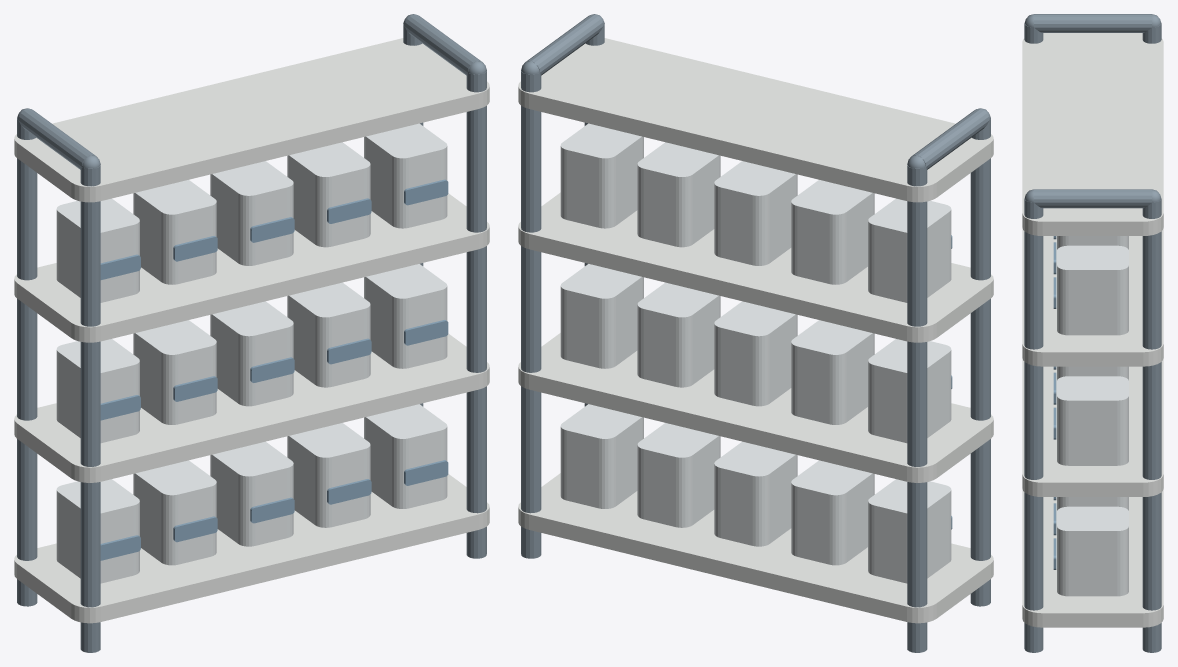
Rendered from hospital_supply_shelf.glb.
3 views of the same model, side by side, from view 1: azimuth 30°, elevation 25°; view 2: azimuth 150°, elevation 25°; view 3: azimuth 270°, elevation 25° (orthographic). The views are drawn at different scales.
Visible parts, largest first — view 1: decor_d8dcd8_matte, decor_d4dfe3_matte, decor_455665_metal, decor_476a8a_matte; view 2: decor_d4dfe3_matte, decor_d8dcd8_matte, decor_455665_metal; view 3: decor_d8dcd8_matte, decor_d4dfe3_matte, decor_455665_metal, decor_476a8a_matte.
Boxes of the visible parts, left/top/right/bottom form: decor_d8dcd8_matte: left=14, top=38, right=489, bottom=623; decor_d4dfe3_matte: left=56, top=123, right=447, bottom=583; decor_455665_metal: left=17, top=14, right=486, bottom=652; decor_476a8a_matte: left=100, top=179, right=448, bottom=560; decor_d4dfe3_matte: left=560, top=123, right=951, bottom=583; decor_d8dcd8_matte: left=518, top=38, right=993, bottom=623; decor_455665_metal: left=521, top=14, right=990, bottom=652; decor_d8dcd8_matte: left=1022, top=33, right=1163, bottom=627; decor_d4dfe3_matte: left=1057, top=236, right=1128, bottom=596; decor_455665_metal: left=1024, top=14, right=1161, bottom=652; decor_476a8a_matte: left=1053, top=236, right=1056, bottom=569.
Bounding box in the file's own units: 1.55 × 1.76 × 0.49.
